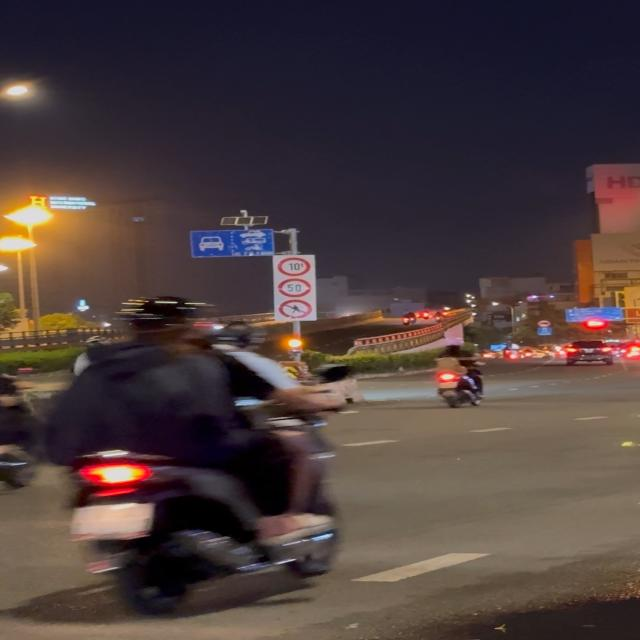Bien bao cam nguoi di bo: (278, 299, 314, 320)
Bien bao toc do toi da cho phep: (278, 278, 312, 298)
